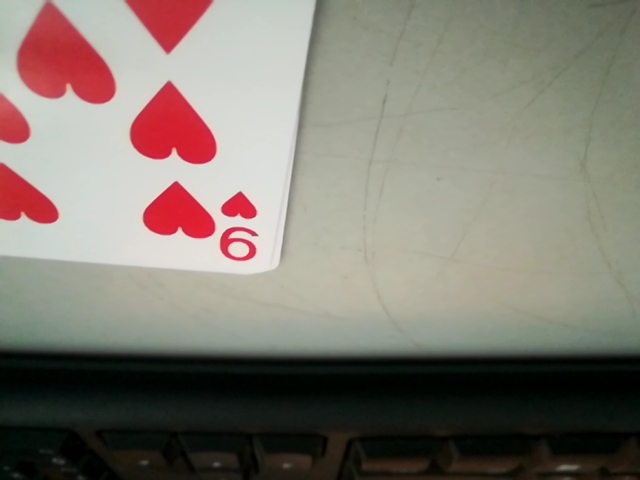hx 9: (214, 187, 265, 270)
